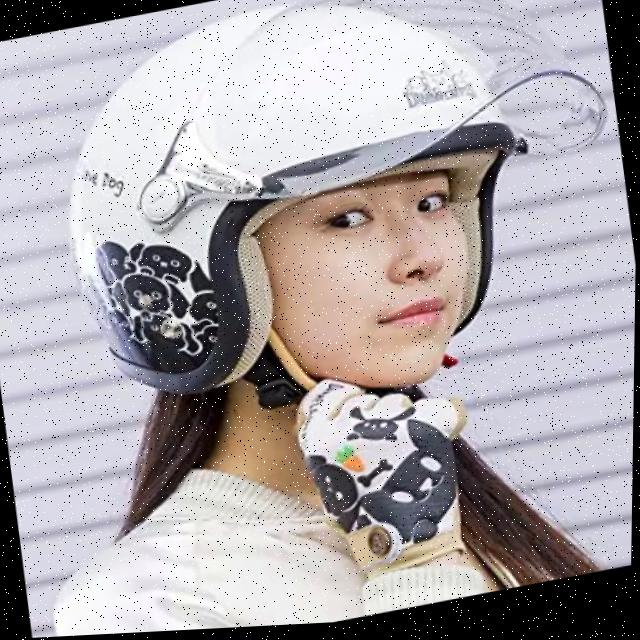helmet: (30, 0, 640, 460)
